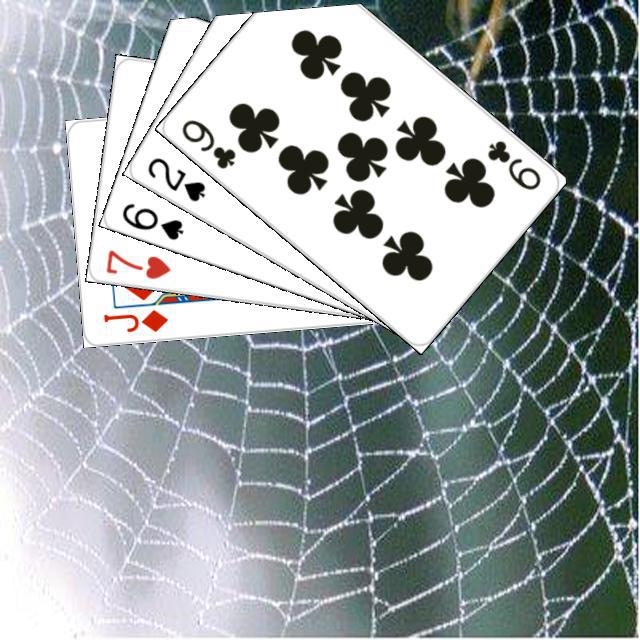2s: (142, 152, 208, 204)
6s: (117, 198, 185, 242)
7h: (101, 244, 172, 281)
9c: (176, 114, 238, 171), (482, 135, 543, 192)
Jd: (98, 304, 170, 334)
